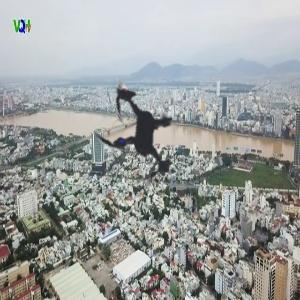drone: (47, 38, 240, 231)
